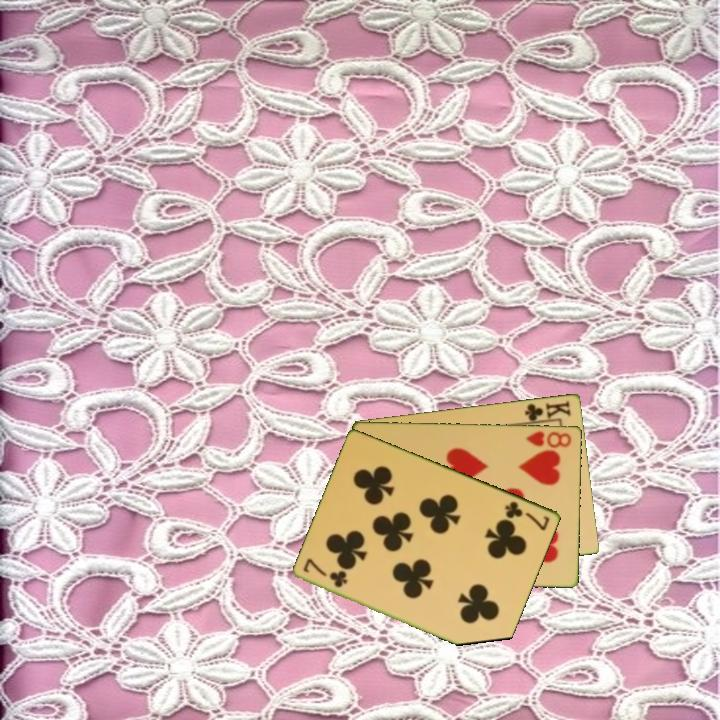7c: (501, 497, 553, 533), (300, 556, 351, 590)
8h: (522, 427, 574, 451)
Kc: (520, 397, 574, 425)
